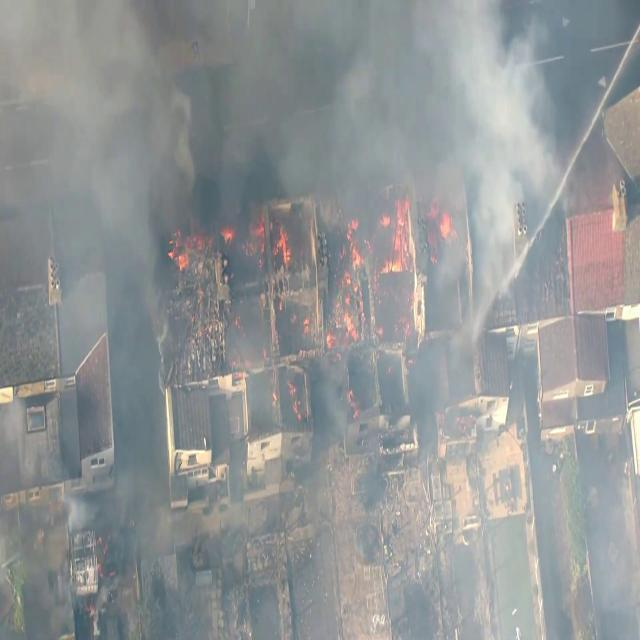Fire: (372, 199, 415, 276)
Smoke: (8, 0, 147, 153), (438, 25, 539, 178)
